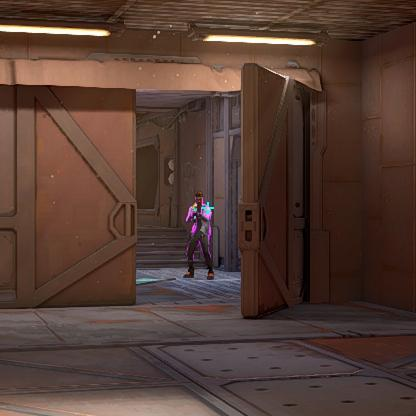enemyBody: (196, 207, 205, 226)
enemyHead: (196, 197, 203, 205)
